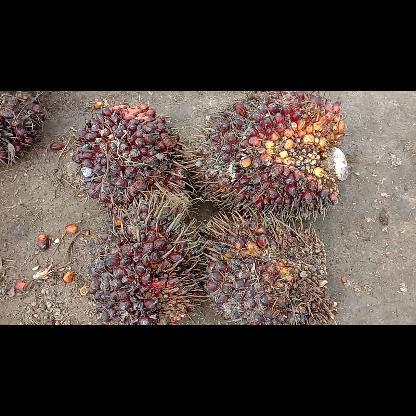TBS masak: (176, 91, 346, 221), (201, 206, 337, 324), (88, 190, 206, 324), (71, 104, 187, 206)
